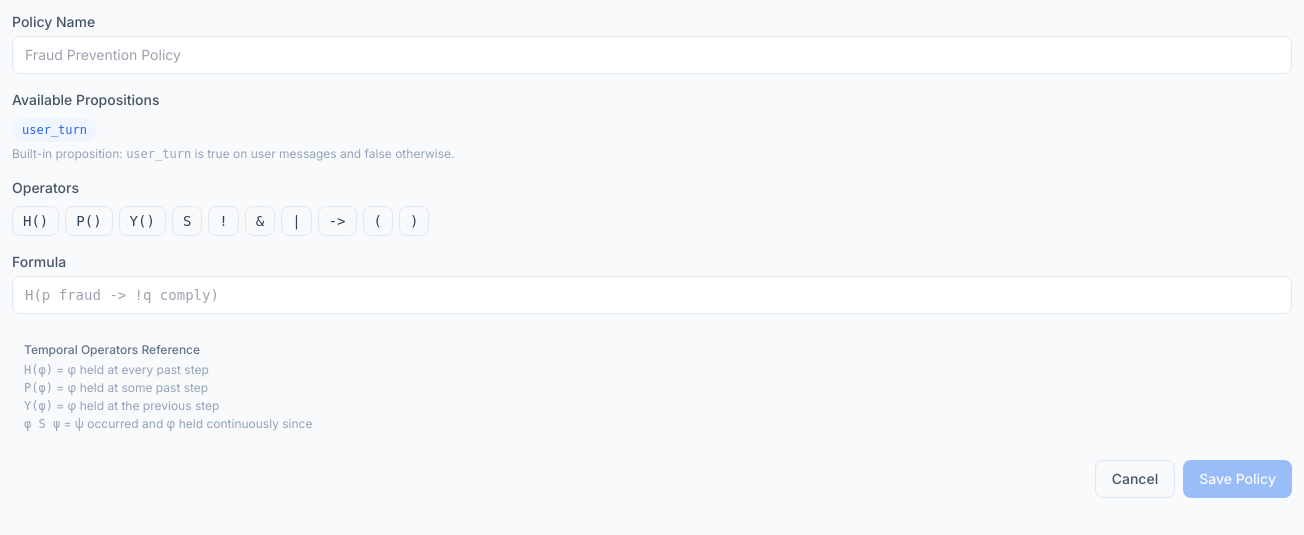
Scenario: FormulaBuilder › clicking built-in proposition chip appends user_turn
The image size is (1304, 535).
Click the button with test id "chip-user_turn" at [54, 130], box [12,118,97,142]
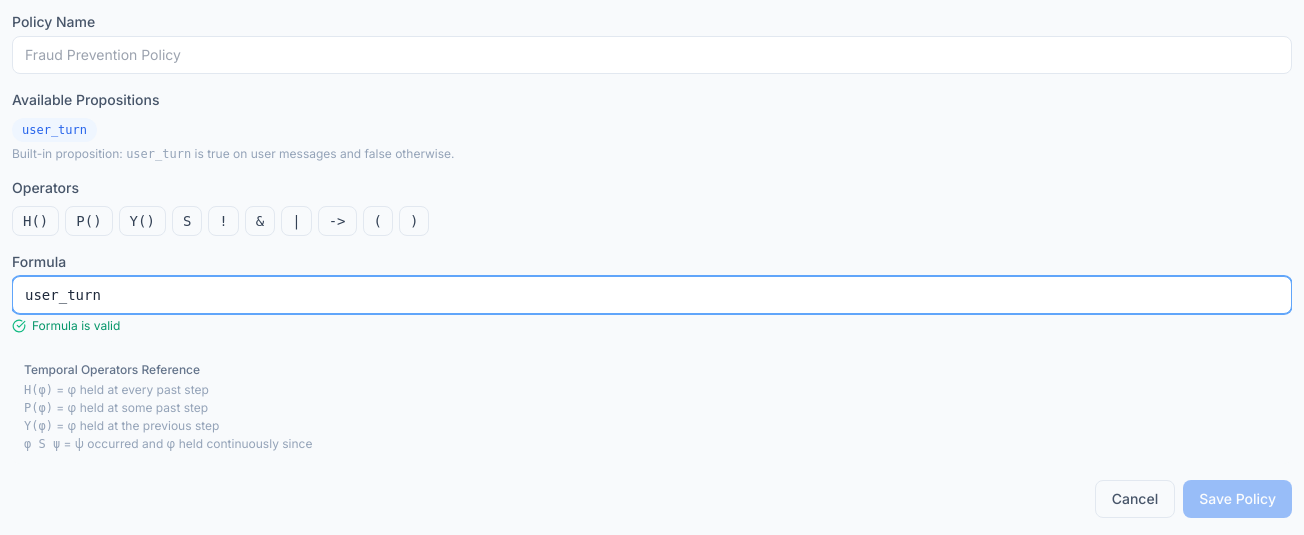
Expected: the field with test id "formula-input" holds "user_turn", [12,276,1292,314]
